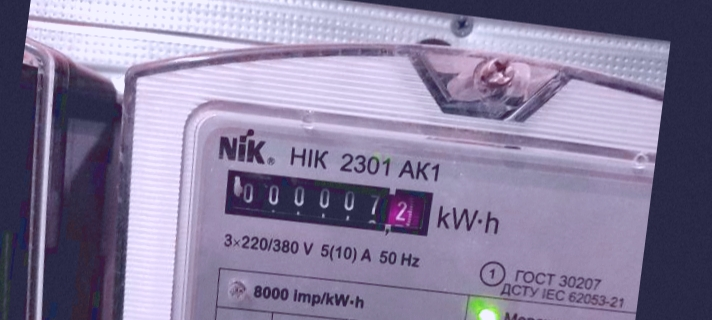0: (239, 179, 256, 204), (316, 185, 333, 210), (291, 183, 307, 208), (341, 187, 357, 212), (265, 182, 281, 205)
2: (393, 198, 409, 223)
7: (367, 191, 382, 216)
screen: (211, 155, 444, 248)
